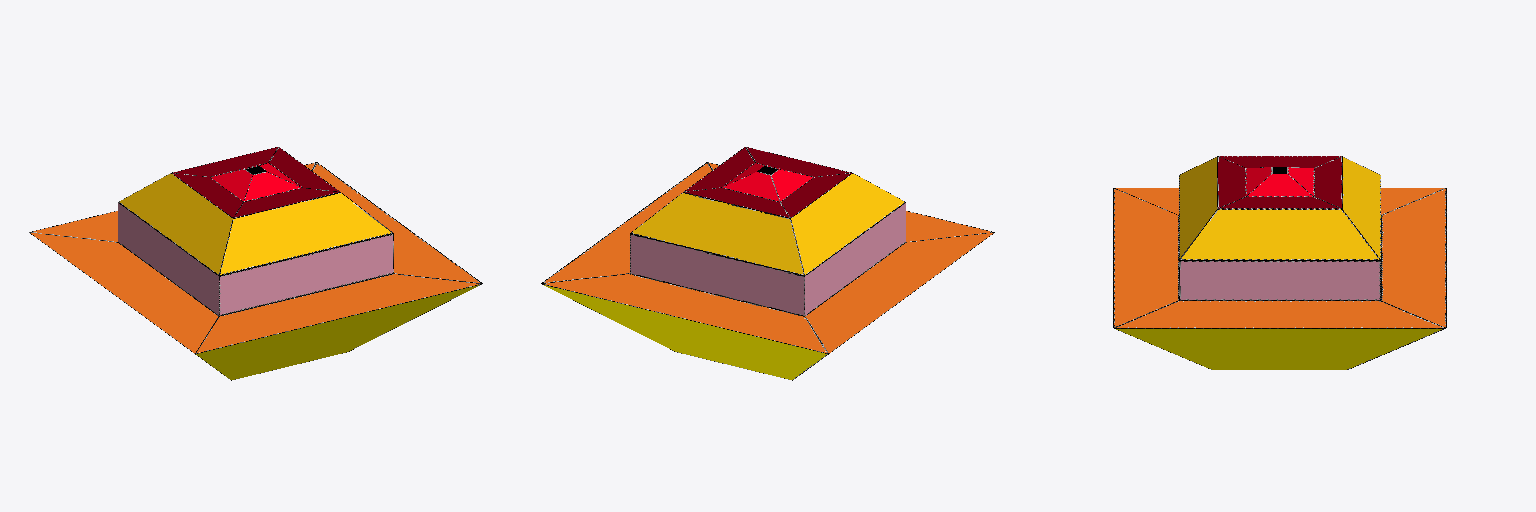
3 views of the same model, side by side, from view 1: azimuth 30°, elevation 25°; view 2: azimuth 150°, elevation 25°; view 3: azimuth 270°, elevation 25° (orthographic).
Visible parts, largest first — view 1: Cube; view 2: Cube; view 3: Cube.
Part boxes in pixels (bbox=[...]): Cube: bbox=[29, 147, 482, 380]; Cube: bbox=[541, 147, 994, 380]; Cube: bbox=[1113, 156, 1446, 369].
Bounding box in the file's own units: 2 × 1.13 × 2.
1 materials, 1 textured.